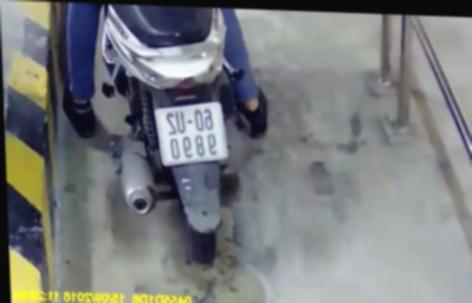License_Plate: (150, 94, 231, 168)
